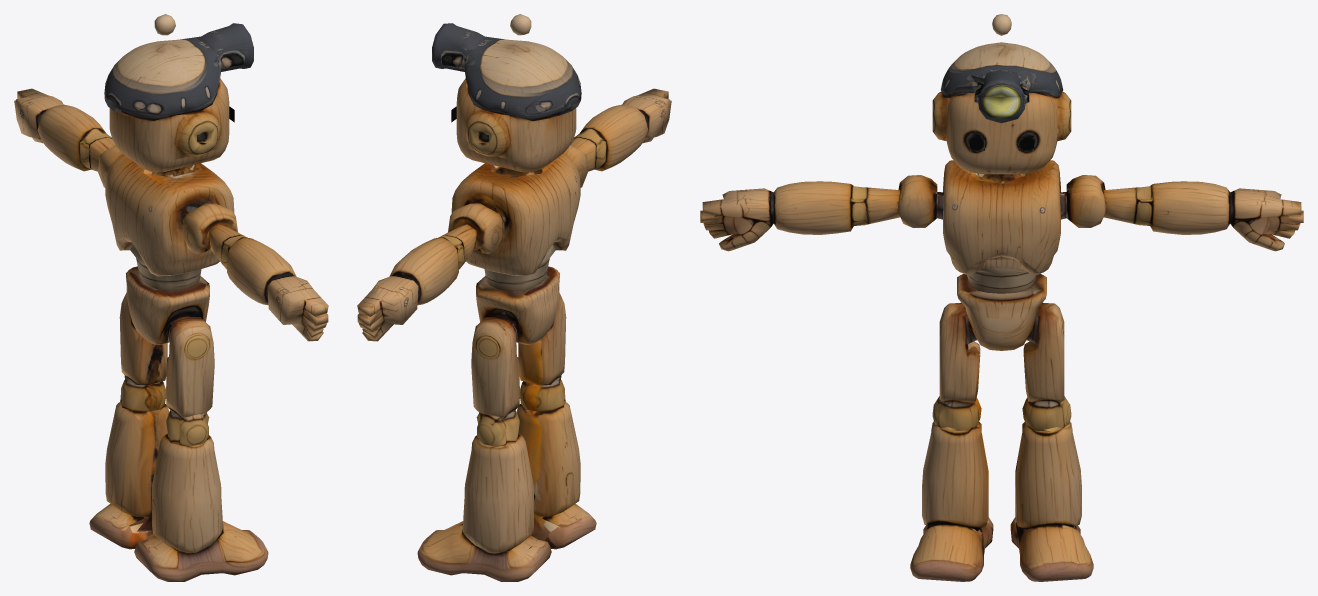
Rendered from wooden+robot+3d+model (4).fbx.
3 views of the same model, side by side, from view 1: azimuth 30°, elevation 25°; view 2: azimuth 150°, elevation 25°; view 3: azimuth 270°, elevation 25° (orthographic).
Parts seen in each view (by area): view 1: tripo_part_14, tripo_part_13, tripo_part_4, tripo_part_11, tripo_part_17, tripo_part_3, tripo_part_6, tripo_part_10, tripo_part_1, tripo_part_20, tripo_part_0, tripo_part_15 (+8 smaller); view 2: tripo_part_14, tripo_part_13, tripo_part_17, tripo_part_11, tripo_part_4, tripo_part_18, tripo_part_15, tripo_part_10, tripo_part_20, tripo_part_1, tripo_part_21, tripo_part_6 (+8 smaller); view 3: tripo_part_14, tripo_part_11, tripo_part_4, tripo_part_17, tripo_part_1, tripo_part_20, tripo_part_10, tripo_part_13, tripo_part_18, tripo_part_3, tripo_part_15, tripo_part_6 (+8 smaller).
Boxes of the visible parts, box(x1,y1,x2,y2) form: tripo_part_14: box(105, 154, 234, 276); tripo_part_13: box(104, 36, 223, 121); tripo_part_4: box(152, 433, 223, 552); tripo_part_11: box(109, 78, 234, 174); tripo_part_17: box(105, 402, 168, 516); tripo_part_3: box(134, 521, 268, 581); tripo_part_6: box(166, 316, 214, 417); tripo_part_10: box(126, 266, 209, 344); tripo_part_1: box(209, 224, 296, 305); tripo_part_20: box(37, 104, 115, 171); tripo_part_0: box(267, 274, 328, 341); tripo_part_15: box(119, 293, 167, 385); tripo_part_14: box(451, 154, 580, 276); tripo_part_13: box(462, 36, 581, 121); tripo_part_17: box(462, 435, 533, 552); tripo_part_11: box(451, 78, 576, 172); tripo_part_4: box(517, 402, 580, 516); tripo_part_18: box(417, 521, 551, 581); tripo_part_15: box(471, 312, 519, 417); tripo_part_10: box(476, 266, 559, 344); tripo_part_20: box(389, 224, 476, 305); tripo_part_1: box(570, 104, 648, 171); tripo_part_21: box(357, 274, 418, 341); tripo_part_6: box(518, 293, 566, 385); tripo_part_14: box(937, 160, 1066, 274); tripo_part_11: box(932, 91, 1071, 179); tripo_part_4: box(922, 421, 988, 529); tripo_part_17: box(1015, 421, 1081, 529); tripo_part_1: box(773, 181, 900, 234); tripo_part_20: box(1103, 181, 1230, 234); tripo_part_10: box(957, 274, 1046, 350); tripo_part_13: box(938, 42, 1063, 98); tripo_part_18: box(1010, 517, 1093, 581); tripo_part_3: box(910, 517, 993, 581); tripo_part_15: box(1023, 302, 1064, 402); tripo_part_6: box(939, 302, 980, 405).
Bounding box in the file's own units: 23.93 × 92.81 × 94.45.
Materials: 1 (1 with a texture image).
